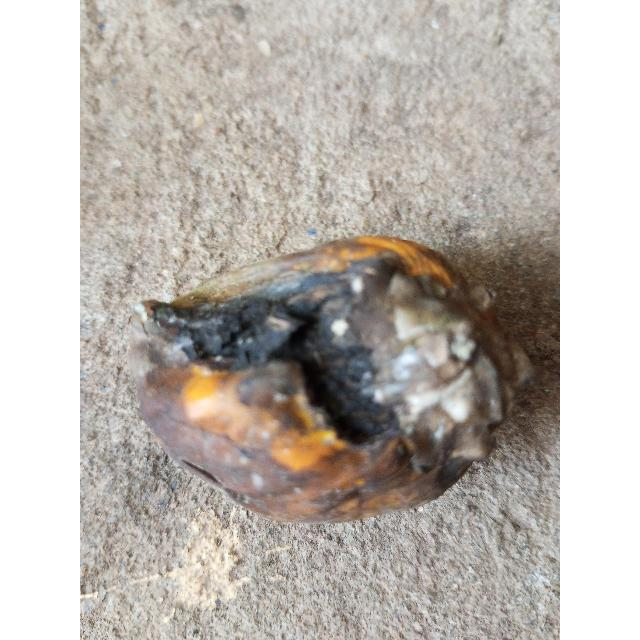damaged: (129, 235, 523, 527)
